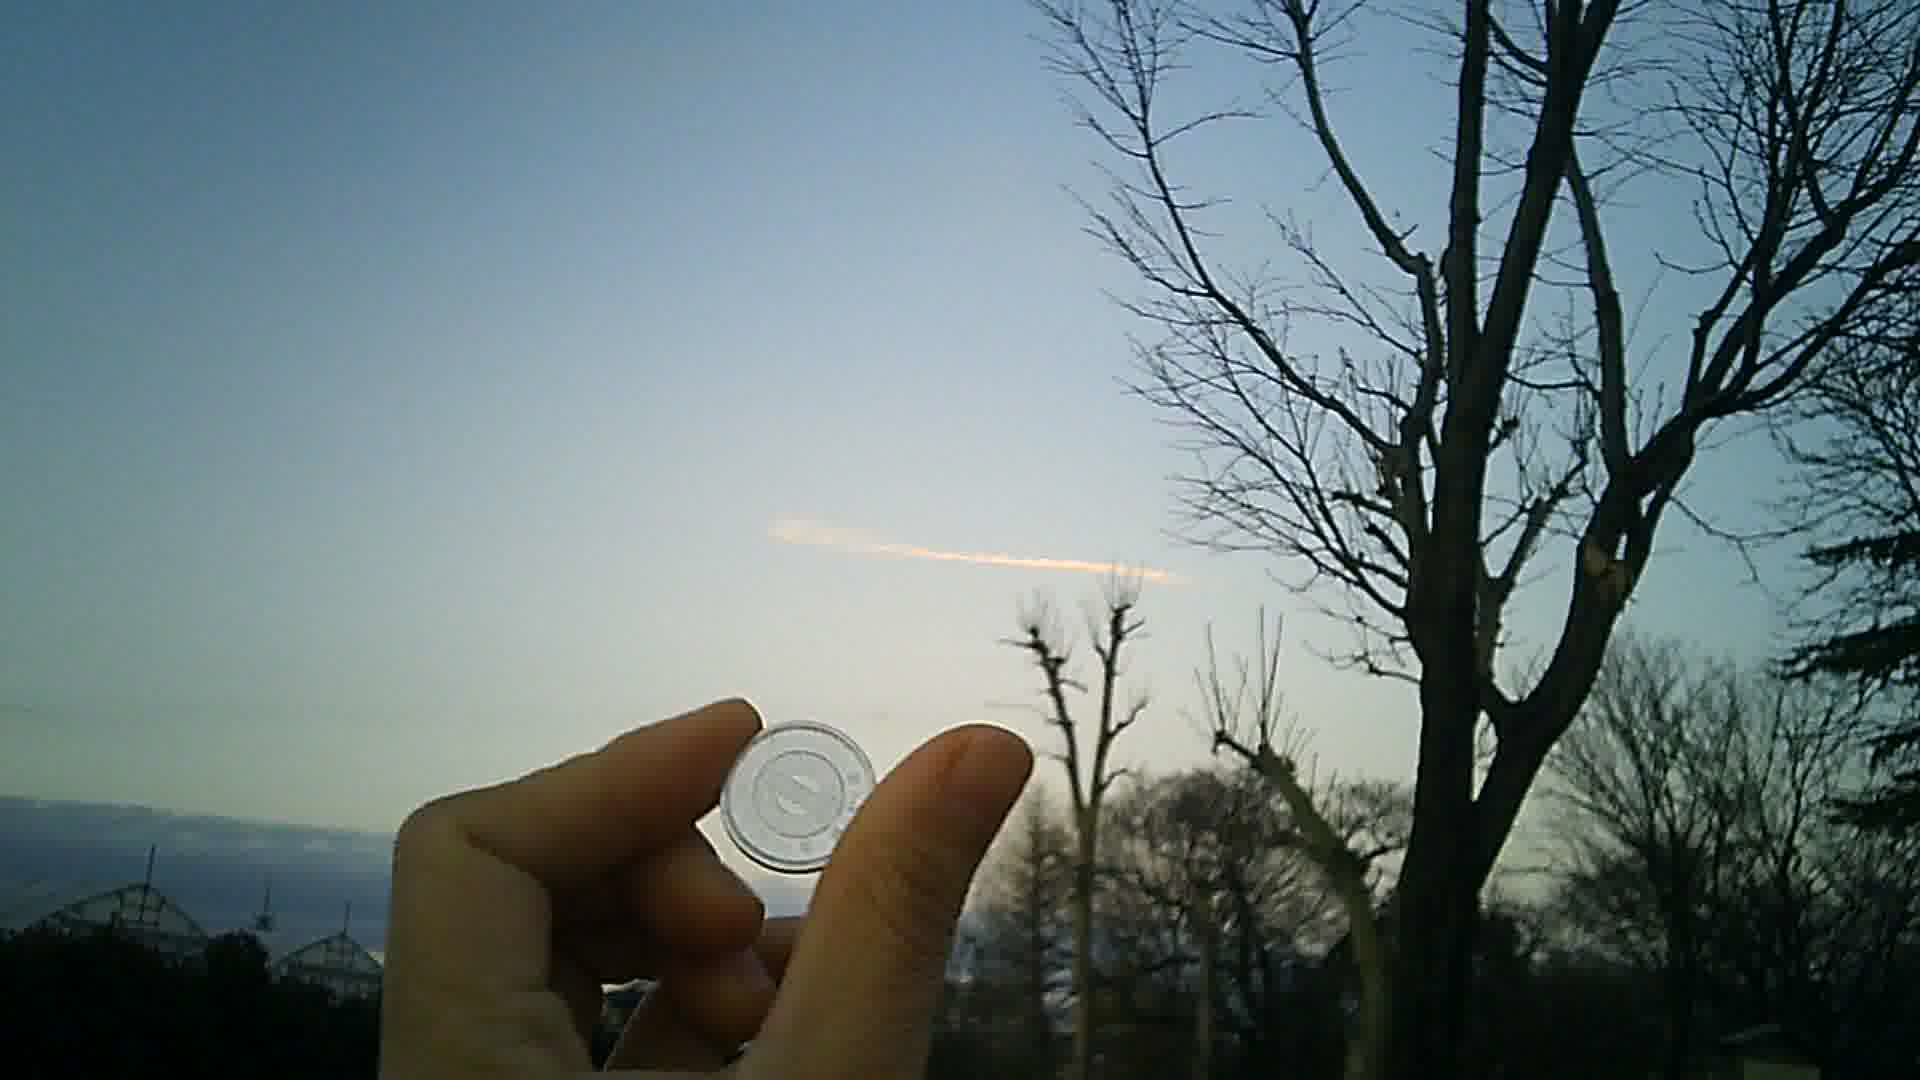1 Yen: (711, 711, 891, 872)
